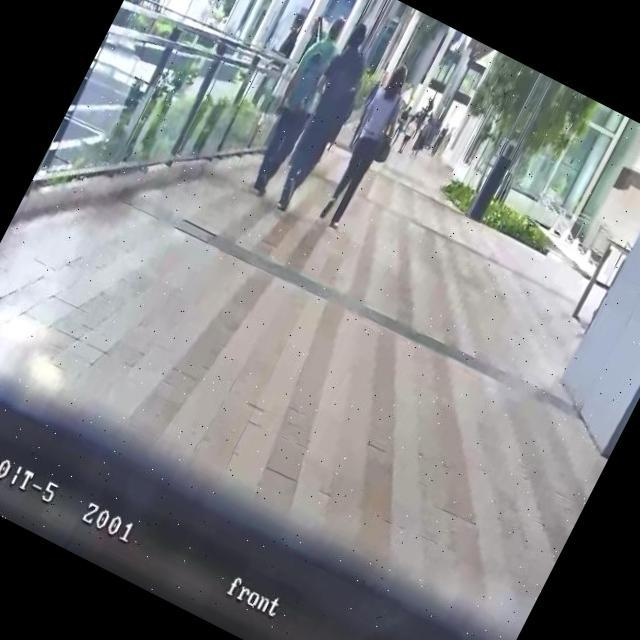person: (259, 18, 389, 222), (235, 9, 358, 202), (310, 58, 428, 237), (276, 12, 310, 59), (408, 111, 438, 158), (410, 114, 440, 158), (395, 111, 424, 156), (427, 122, 450, 156), (392, 103, 414, 137), (428, 123, 449, 157)
